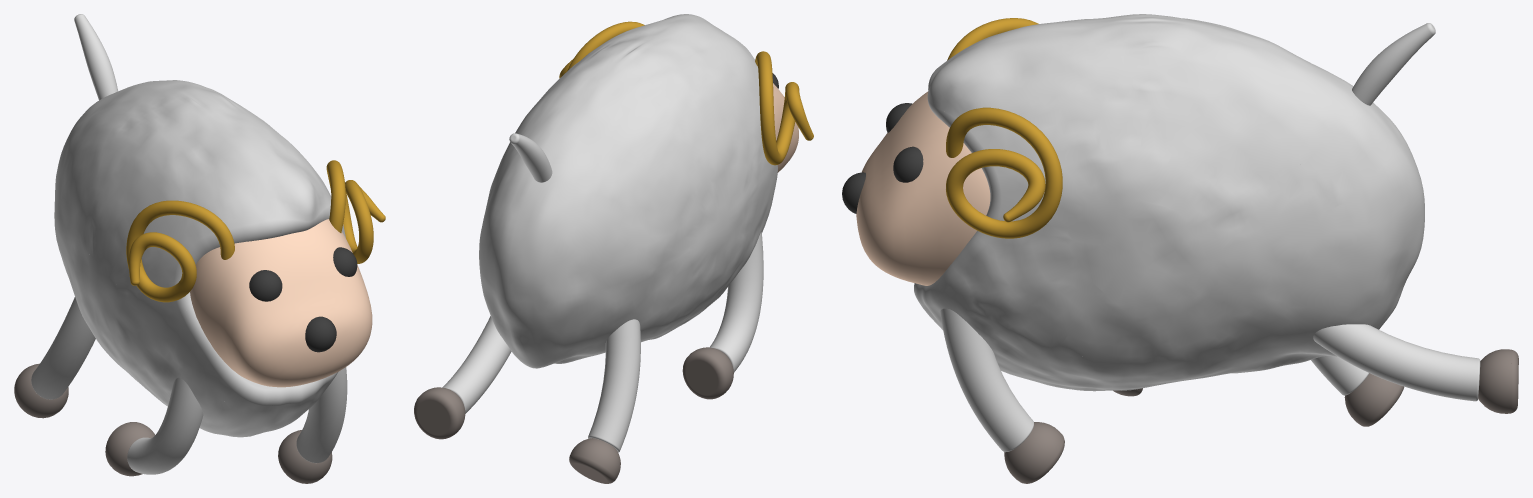
The picture shows the model from 3 angles, left to right: view 1: azimuth 30°, elevation 25°; view 2: azimuth 150°, elevation 25°; view 3: azimuth 270°, elevation 25°; orthographic projection. The views are drawn at different scales.
Parts seen in each view (by area): view 1: 234_sheep; view 2: 234_sheep; view 3: 234_sheep.
Boxes of the visible parts, box(x1,y1,x2,y2) form: 234_sheep: box(14, 14, 385, 483); 234_sheep: box(414, 14, 813, 483); 234_sheep: box(842, 14, 1518, 483).
Bounding box in the file's own units: 0.1297 × 0.1783 × 0.2503.
